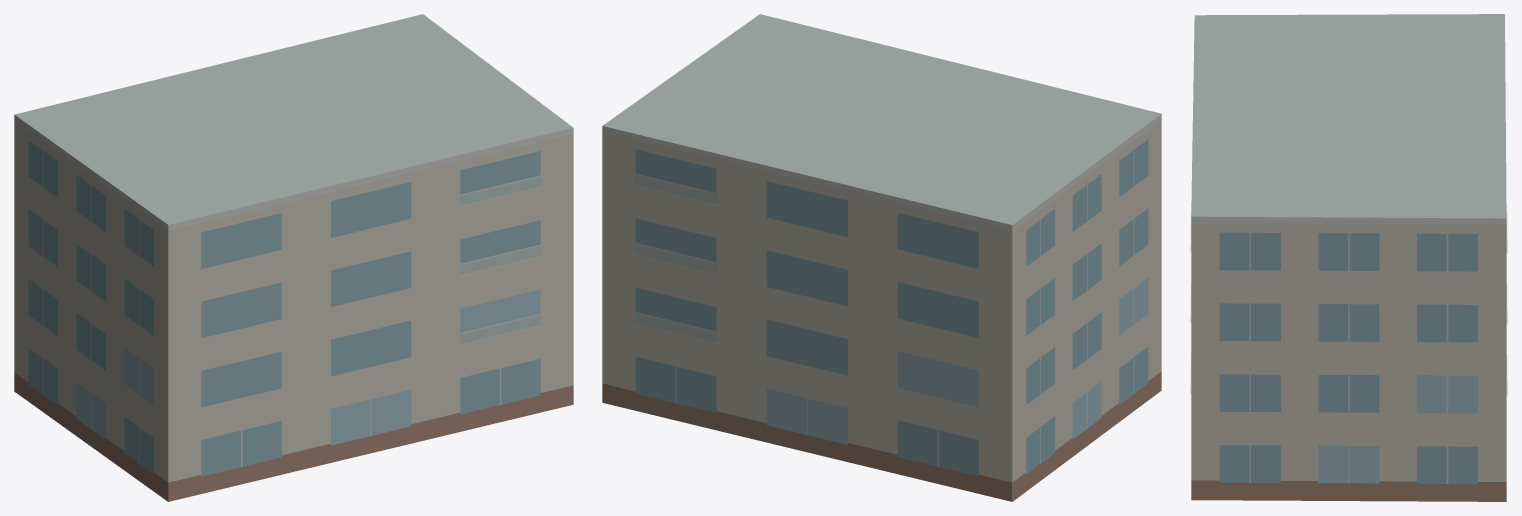
Rendered from survey-upis-32823816.glb.
The picture shows the model from 3 angles, left to right: view 1: azimuth 30°, elevation 25°; view 2: azimuth 150°, elevation 25°; view 3: azimuth 270°, elevation 25°; orthographic projection. The views are drawn at different scales.
Parts seen in each view (by area): view 1: survey-upis-32823816.tmp; view 2: survey-upis-32823816.tmp; view 3: survey-upis-32823816.tmp.
Boxes of the visible parts, left/top/right/bottom form: survey-upis-32823816.tmp: left=14, top=14, right=573, bottom=501; survey-upis-32823816.tmp: left=602, top=14, right=1161, bottom=501; survey-upis-32823816.tmp: left=1190, top=14, right=1507, bottom=501.
Bounding box in the file's own units: 17.19 × 11.1 × 11.26.
